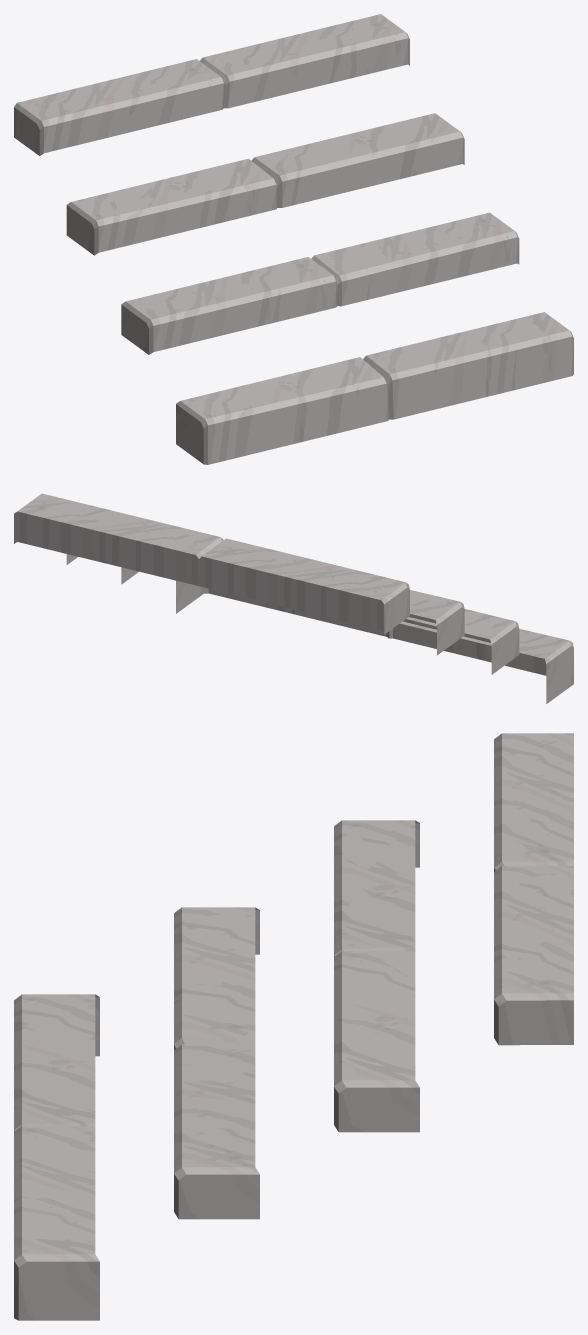
File: SM_Bld_Step_01_Insert_01.fbx
The picture shows the model from 3 angles, top to bottom: view 1: azimuth 30°, elevation 25°; view 2: azimuth 150°, elevation 25°; view 3: azimuth 270°, elevation 25°; orthographic projection. The views are drawn at different scales.
Parts seen in each view (by area): view 1: SM_Bld_Step_01_Insert_01; view 2: SM_Bld_Step_01_Insert_01; view 3: SM_Bld_Step_01_Insert_01.
Part boxes in pixels (x1,y1,x2,y2): SM_Bld_Step_01_Insert_01: [14, 14, 573, 464]; SM_Bld_Step_01_Insert_01: [14, 493, 573, 703]; SM_Bld_Step_01_Insert_01: [14, 733, 573, 1320].
Size of the model in its own units: 244 by 140 by 219.
